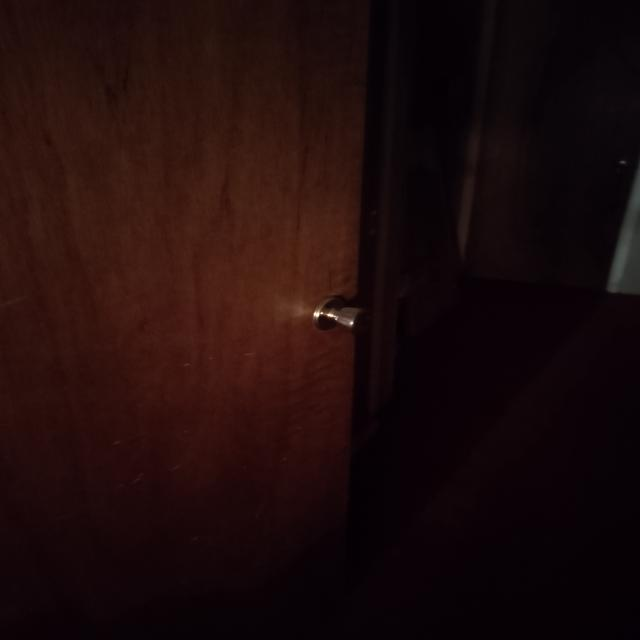door-knob: (312, 295, 371, 335)
